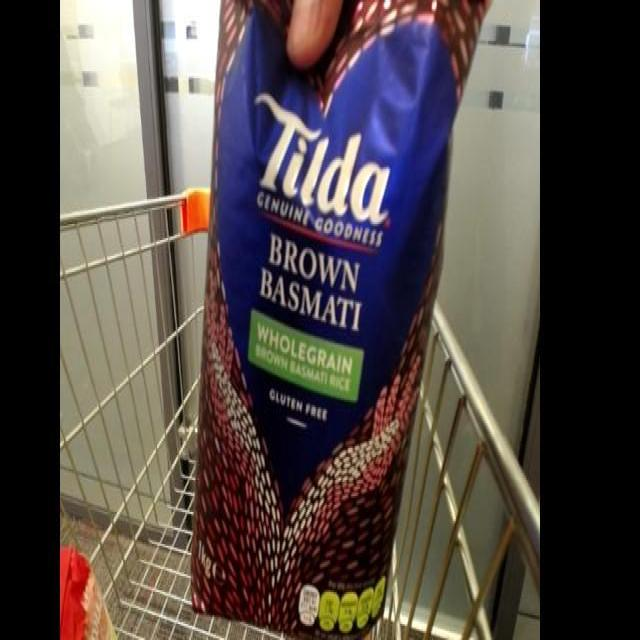Tida: (187, 0, 493, 629)
